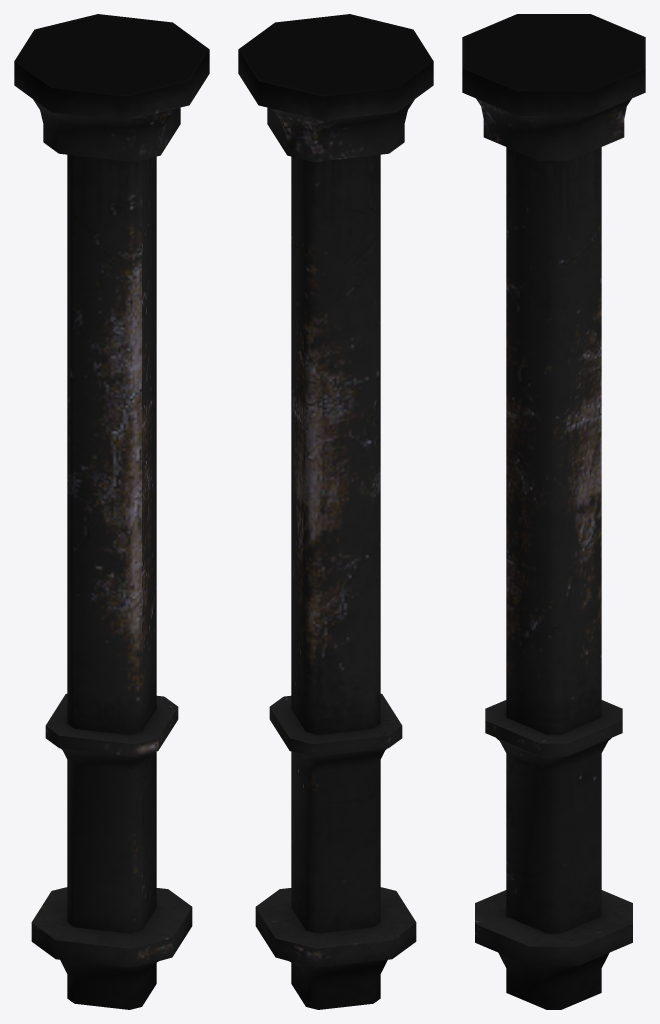
The model's file is welder_rotten.dae.
3 views of the same model, side by side, from view 1: azimuth 30°, elevation 25°; view 2: azimuth 150°, elevation 25°; view 3: azimuth 270°, elevation 25° (orthographic).
Parts seen in each view (by area): view 1: mansionbase_welder; view 2: mansionbase_welder; view 3: mansionbase_welder.
Part boxes in pixels (x1,y1,x2,y2): mansionbase_welder: (14,14,209,1009); mansionbase_welder: (238,14,433,1009); mansionbase_welder: (462,14,645,1009).
Size of the model in its own units: 0.7087 by 4 by 0.7087.
